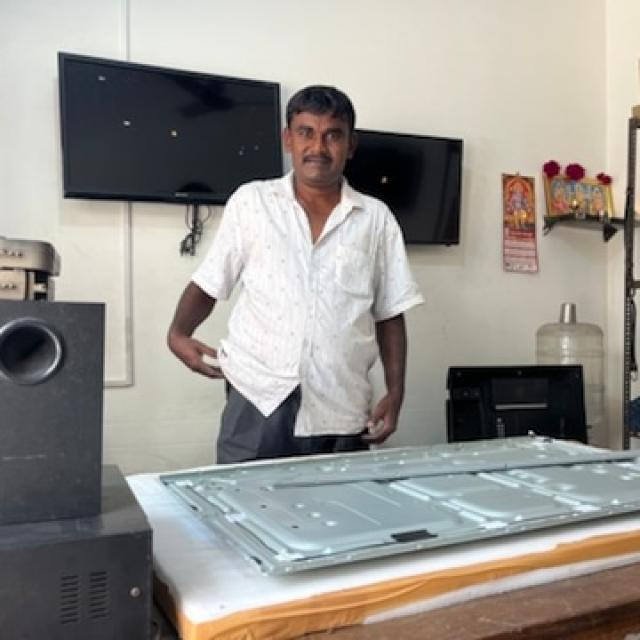electronics: (160, 436, 636, 574), (0, 299, 148, 636), (59, 52, 281, 203), (0, 468, 148, 636), (0, 299, 101, 523), (345, 130, 459, 242), (446, 363, 585, 441), (533, 300, 603, 425), (619, 140, 636, 444), (0, 235, 59, 299), (155, 524, 192, 587), (0, 235, 59, 274), (0, 267, 50, 297), (28, 252, 50, 267), (156, 500, 169, 523), (244, 606, 260, 617), (206, 626, 220, 635), (629, 105, 636, 116), (364, 564, 372, 572), (133, 484, 140, 492), (187, 587, 192, 594), (362, 578, 364, 580)
